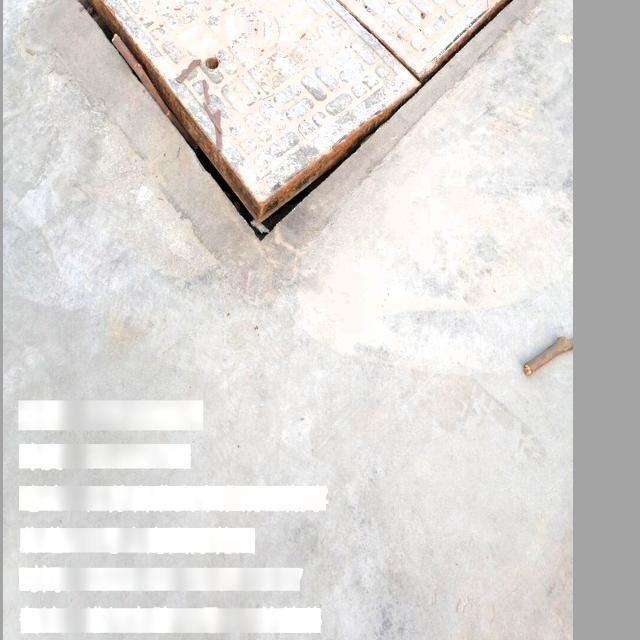uncovered: (71, 0, 560, 264)
